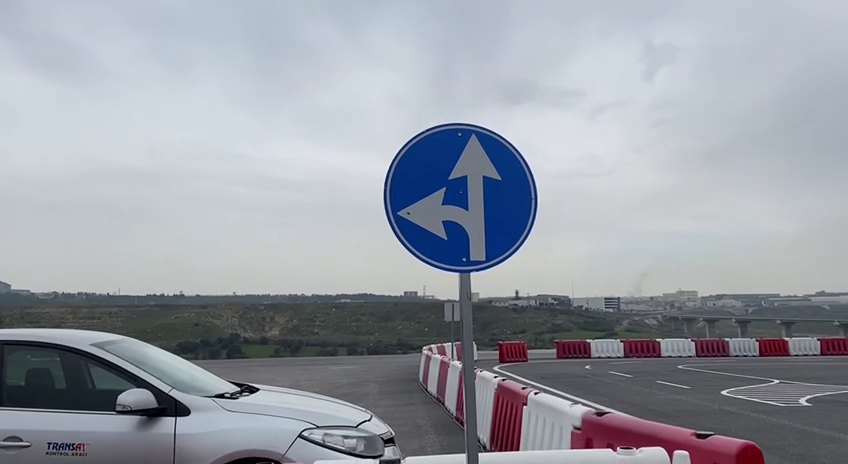forwardAndLeft: (380, 119, 544, 277)
